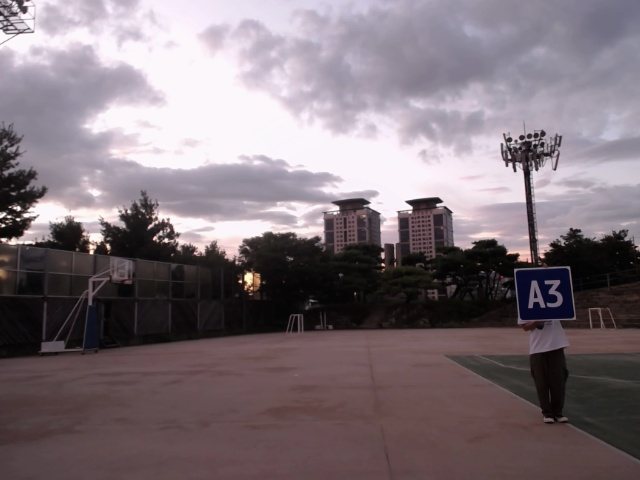delivery_a3: (514, 267, 576, 321)
